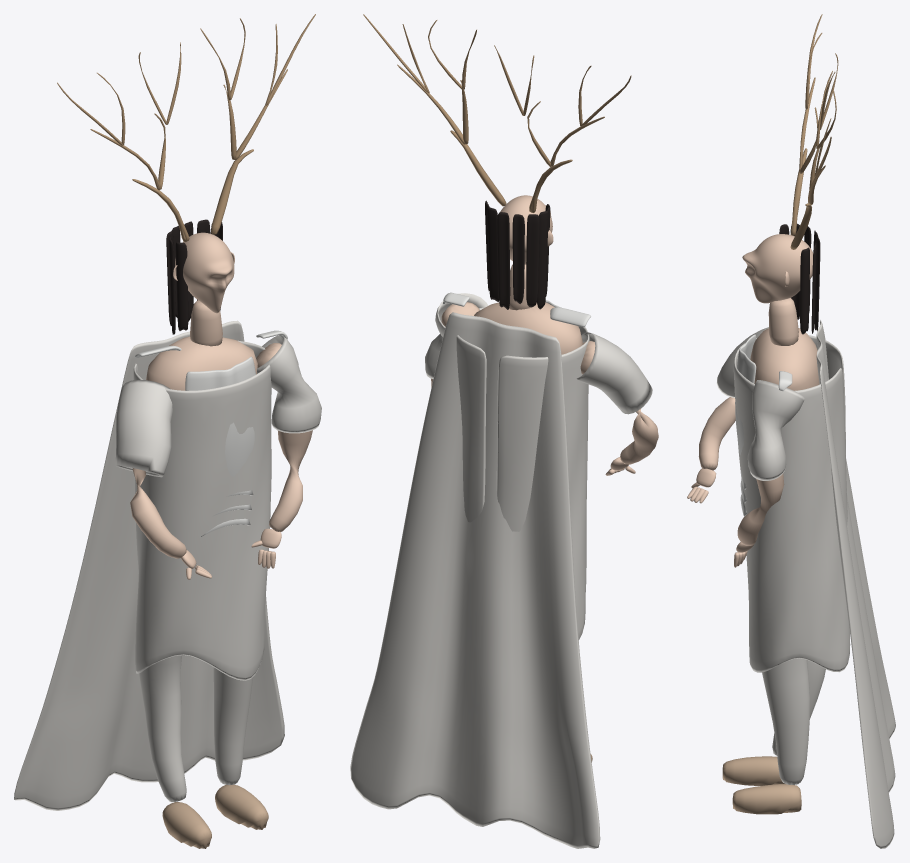
The model's file is grove_ruler.glb.
3 renders of one model, left to right at view 1: azimuth 30°, elevation 25°; view 2: azimuth 150°, elevation 25°; view 3: azimuth 270°, elevation 25°, orthographic. The views are drawn at different scales.
Parts seen in each view (by area): view 1: Cape, Robe, SleeveR, LegR, LegL, SleeveL, Body, Head, Plate, ArmL, ArmR, BootL (+4 smaller); view 2: Cape, Robe, SleeveR, Body, ArmR, Hair4, Hair2, Hair3, Head, SleeveL, Hair1, Hair5 (+1 smaller); view 3: Robe, Cape, LegL, SleeveL, Head, Body, BootL, BootR, ArmR, ArmL, Neck, Plate (+5 smaller).
Boxes of the visible parts, box(x1,y1,x2,y2) form: Cape: box(14, 320, 284, 810); Robe: box(133, 340, 271, 680); SleeveR: box(115, 379, 172, 477); LegR: box(139, 655, 186, 802); LegL: box(213, 667, 253, 785); SleeveL: box(257, 335, 321, 433); Body: box(146, 336, 257, 390); Head: box(175, 232, 234, 313); Plate: box(185, 356, 255, 476); ArmL: box(256, 343, 312, 531); ArmR: box(130, 468, 186, 558); BootL: box(215, 784, 268, 829); Cape: box(350, 312, 600, 848); Robe: box(456, 307, 589, 640); SleeveR: box(577, 332, 652, 414); Body: box(474, 302, 582, 354); ArmR: box(580, 341, 658, 464); Hair4: box(526, 214, 539, 307); Hair2: box(497, 212, 510, 309); Hair3: box(512, 214, 524, 303); Head: box(500, 195, 552, 264); SleeveL: box(425, 293, 488, 378); Hair1: box(487, 207, 498, 301); Hair5: box(537, 210, 548, 309); Robe: box(733, 335, 850, 672); Cape: box(816, 320, 895, 848); LegL: box(762, 658, 809, 784); SleeveL: box(747, 380, 804, 480); Head: box(742, 234, 813, 303); Body: box(750, 328, 819, 390); BootL: box(732, 784, 801, 814); BootR: box(722, 756, 784, 785); ArmR: box(698, 397, 735, 470); ArmL: box(737, 473, 784, 545); Neck: box(768, 298, 798, 345); Plate: box(735, 334, 756, 455).
Bounding box in the file's own units: 0.908 × 2.49 × 0.6367.
